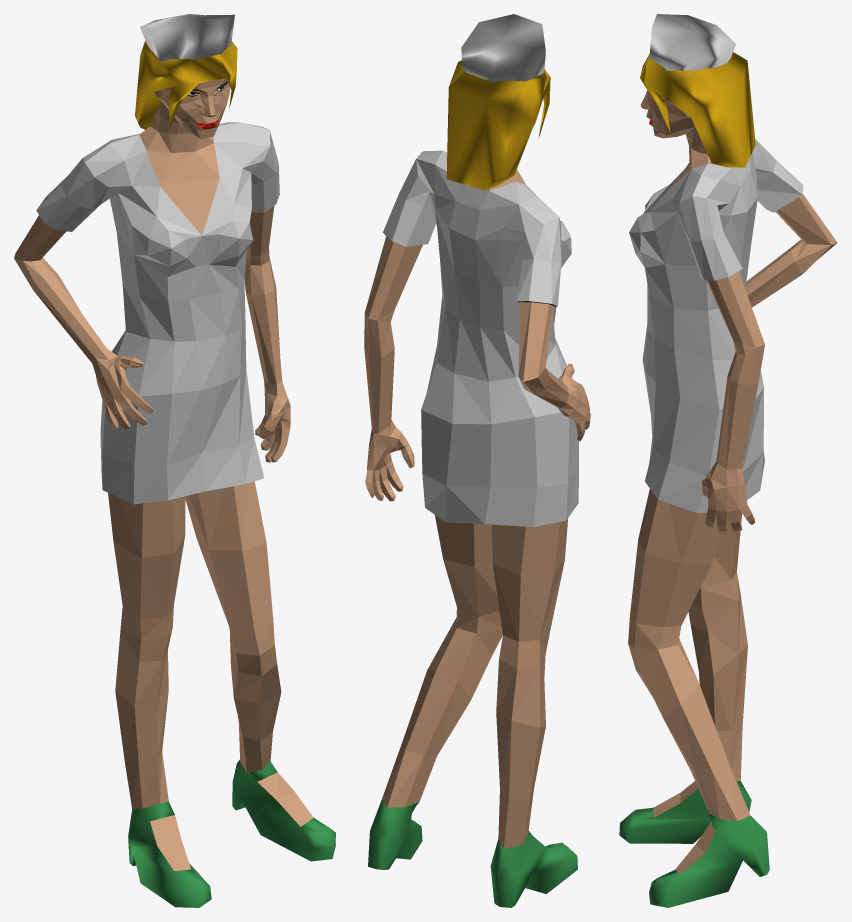
The model's file is nurse.dae.
3 renders of one model, left to right at view 1: azimuth 30°, elevation 25°; view 2: azimuth 150°, elevation 25°; view 3: azimuth 270°, elevation 25°, orthographic. The views are drawn at different scales.
Parts seen in each view (by area): view 1: A7_01_698_0_Pts_Material__1__Surf, A7_01_698_0_Pts_Material__5__Surf, A7_01_698_0_Pts_Material__6__Surf, A7_01_698_0_Pts_Material__3__Surf, A7_01_698_0_Pts_Material__7__Surf; view 2: A7_01_698_0_Pts_Material__5__Surf, A7_01_698_0_Pts_Material__1__Surf, A7_01_698_0_Pts_Material__3__Surf, A7_01_698_0_Pts_Material__6__Surf, A7_01_698_0_Pts_Material__7__Surf; view 3: A7_01_698_0_Pts_Material__1__Surf, A7_01_698_0_Pts_Material__5__Surf, A7_01_698_0_Pts_Material__6__Surf, A7_01_698_0_Pts_Material__3__Surf, A7_01_698_0_Pts_Material__7__Surf.
Part boxes in pixels (x1,y1,x2,y2): A7_01_698_0_Pts_Material__1__Surf: (14,78,313,870); A7_01_698_0_Pts_Material__5__Surf: (36,122,279,504); A7_01_698_0_Pts_Material__6__Surf: (128,760,335,907); A7_01_698_0_Pts_Material__3__Surf: (135,40,237,129); A7_01_698_0_Pts_Material__7__Surf: (140,14,234,95); A7_01_698_0_Pts_Material__5__Surf: (383,150,578,527); A7_01_698_0_Pts_Material__1__Surf: (364,106,590,849); A7_01_698_0_Pts_Material__3__Surf: (446,60,550,190); A7_01_698_0_Pts_Material__6__Surf: (368,799,577,907); A7_01_698_0_Pts_Material__7__Surf: (461,14,545,82); A7_01_698_0_Pts_Material__1__Surf: (628,90,837,873); A7_01_698_0_Pts_Material__5__Surf: (629,139,803,512); A7_01_698_0_Pts_Material__6__Surf: (619,781,769,907); A7_01_698_0_Pts_Material__3__Surf: (640,52,755,167); A7_01_698_0_Pts_Material__7__Surf: (649,14,735,70).
Size of the model in its own units: 5.69 by 19.63 by 4.71.
